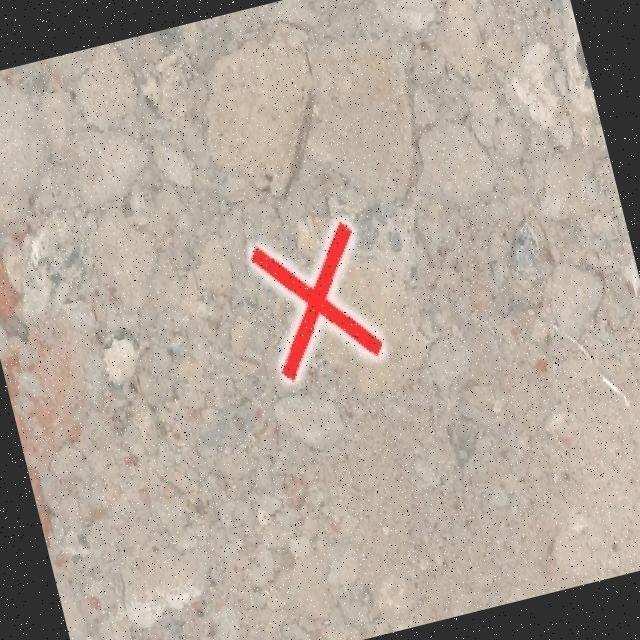x_marker: (246, 218, 384, 380)
